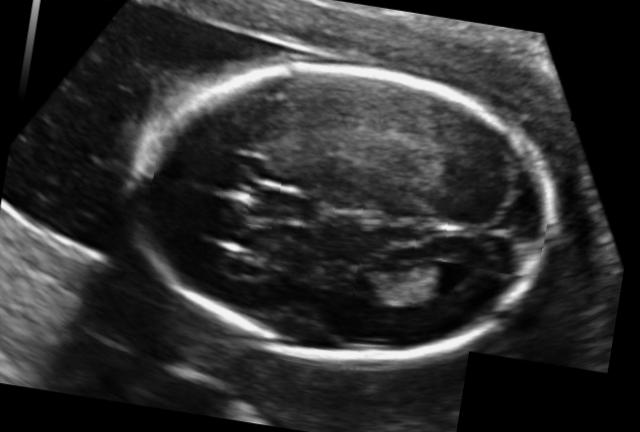CHOROID_PLEXUS: (352, 255, 456, 318)
CSP: (188, 150, 284, 235)
MIDLINE_FALX: (146, 152, 548, 276)
